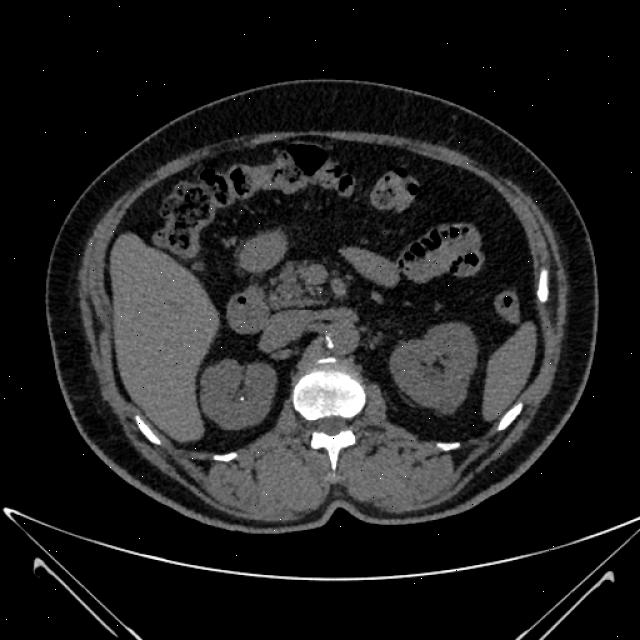kidneystone: (231, 389, 245, 405)
